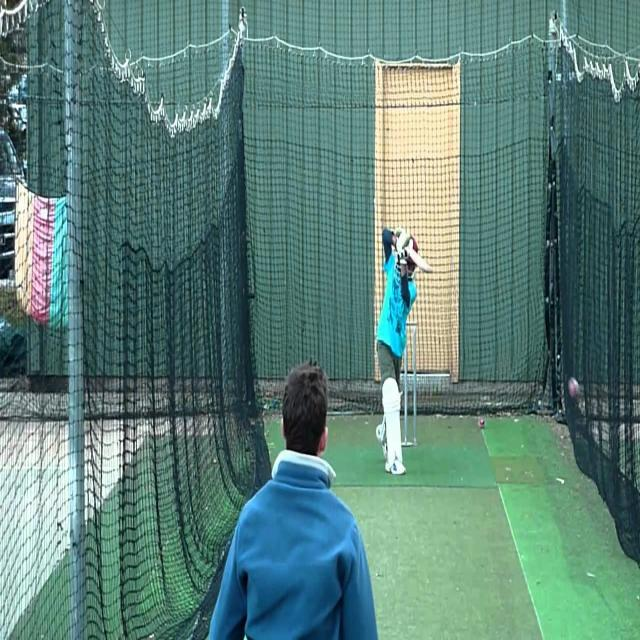bat: (406, 245, 434, 273)
toe: (429, 267, 434, 274)
